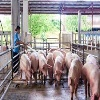heo: (83, 61, 100, 98), (66, 63, 82, 99), (19, 54, 32, 84), (37, 51, 48, 80), (54, 55, 64, 83), (47, 52, 54, 81), (30, 51, 39, 73), (65, 51, 72, 63)
